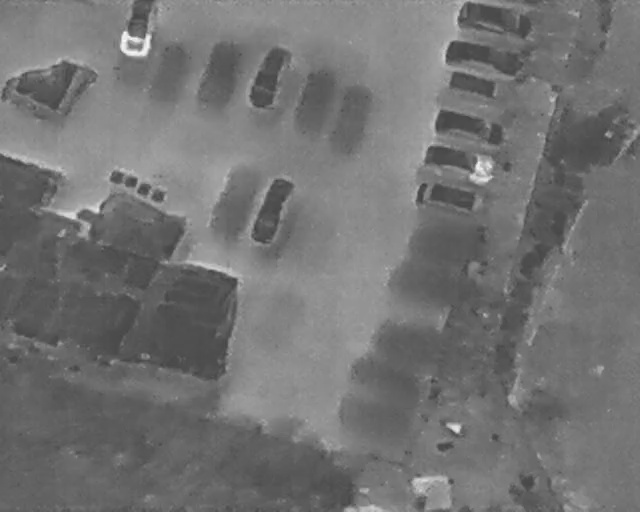Car: (442, 33, 527, 82), (247, 171, 298, 247), (420, 140, 500, 186), (430, 107, 509, 153), (245, 40, 292, 114), (455, 0, 534, 42), (414, 180, 486, 218), (119, 0, 157, 56)
